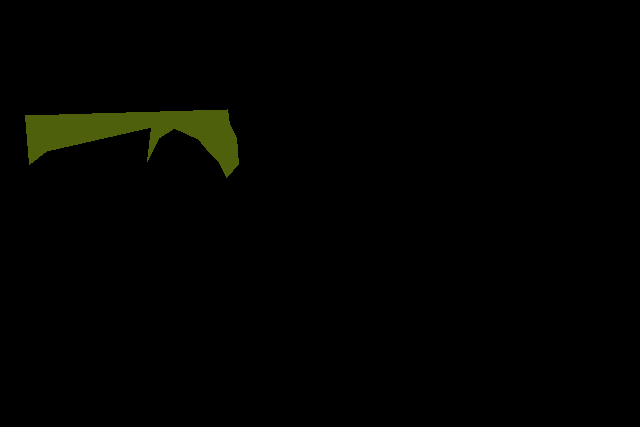Train: (25, 109, 238, 177)
